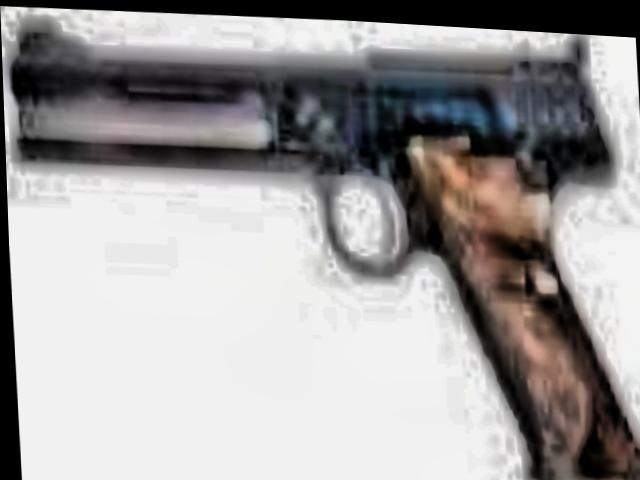pistol: (4, 7, 640, 480)
